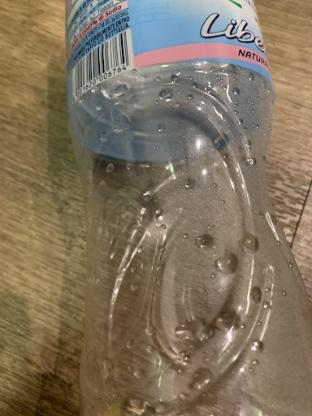Plastic Bottle: (54, 4, 312, 416)
